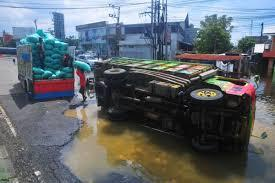Pothole: (34, 99, 258, 183)
